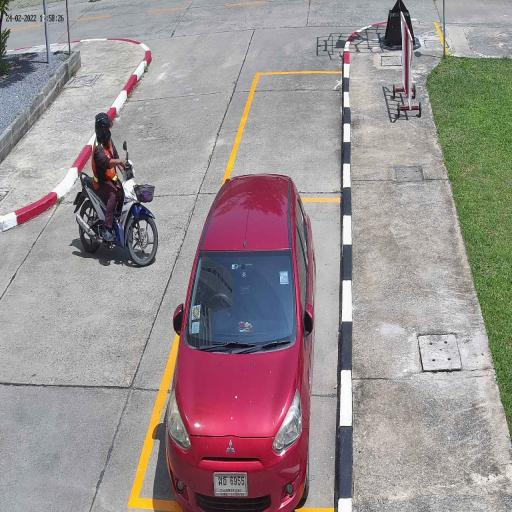car: (164, 172, 318, 512)
motorcycle: (74, 169, 160, 268)
